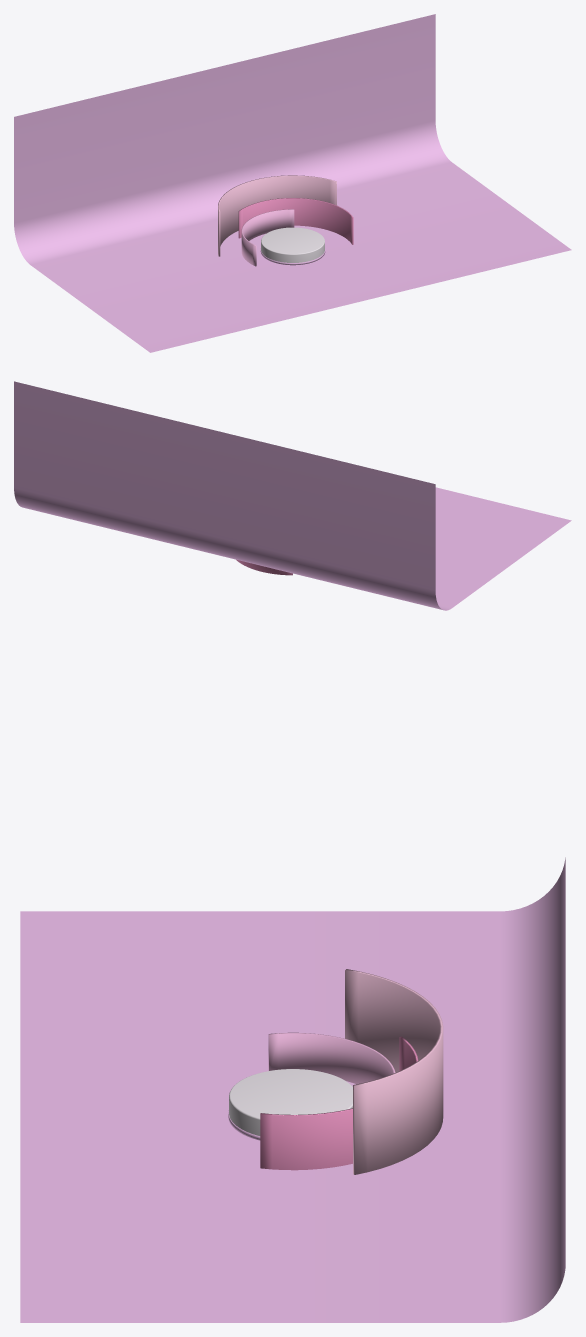
Rendered from rounded_pink_podium_stage_for_product_showcase.glb.
3 renders of one model, top to bottom at view 1: azimuth 30°, elevation 25°; view 2: azimuth 150°, elevation 25°; view 3: azimuth 270°, elevation 25°, orthographic. The views are drawn at different scales.
Visible parts, largest first — view 1: Plane_1, Cylinder.002_5, Cylinder.004_9, Cylinder_0, Cylinder.001_2; view 2: Plane_1; view 3: Plane_1, Cylinder.002_5, Cylinder.004_9, Cylinder_0, Cylinder.001_2.
Part boxes in pixels (box(x1,y1,x2,y2)): Plane_1: box(14, 14, 571, 352); Cylinder.002_5: box(218, 175, 336, 256); Cylinder.004_9: box(238, 198, 353, 244); Cylinder_0: box(261, 227, 324, 262); Cylinder.001_2: box(241, 209, 294, 266); Plane_1: box(14, 381, 571, 610); Plane_1: box(20, 857, 565, 1322); Cylinder.002_5: box(345, 969, 443, 1174); Cylinder.004_9: box(260, 1036, 418, 1170); Cylinder_0: box(229, 1069, 352, 1135); Cylinder.001_2: box(268, 1032, 395, 1084).
Size of the model in its own units: 30.4 by 11.44 by 17.04.
